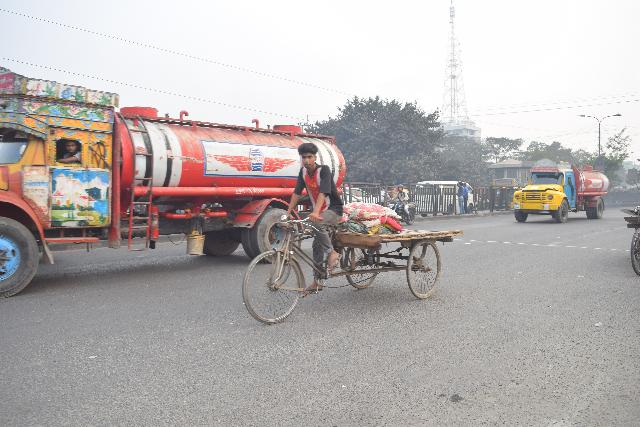truck: (0, 72, 349, 304), (506, 154, 608, 227)
van: (416, 176, 483, 215)
